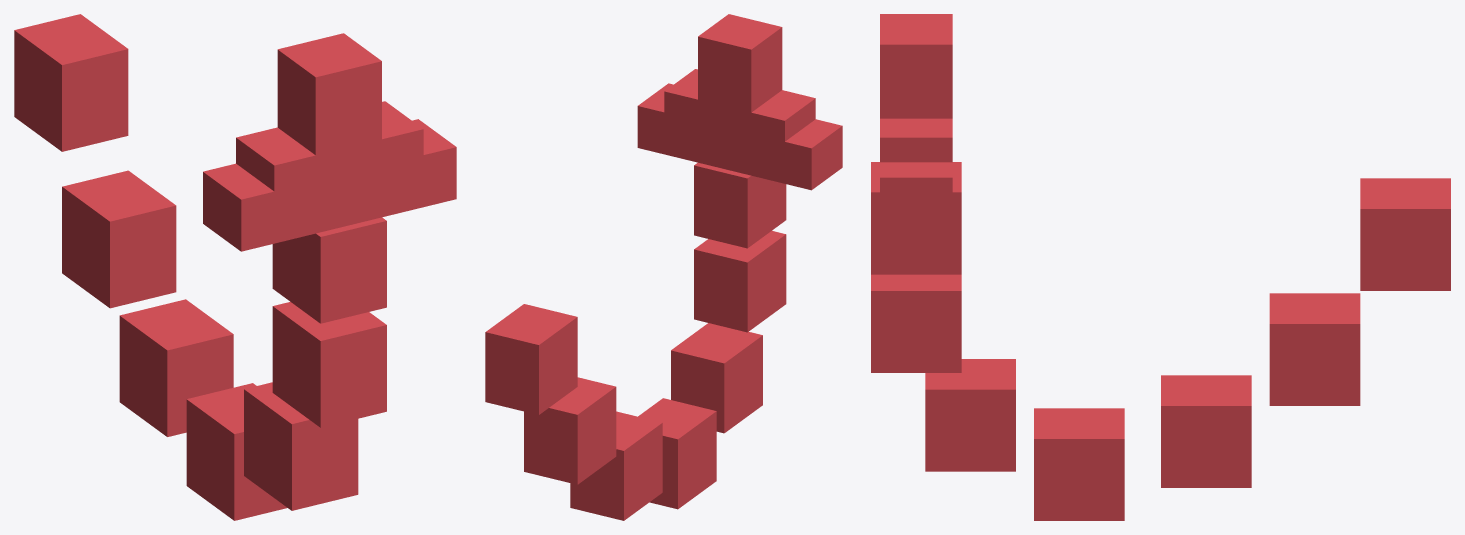
The model's file is cauda_diabo.glb.
The picture shows the model from 3 angles, left to right: view 1: azimuth 30°, elevation 25°; view 2: azimuth 150°, elevation 25°; view 3: azimuth 270°, elevation 25°; orthographic projection. The views are drawn at different scales.
Parts seen in each view (by area): view 1: cauda_diabo; view 2: cauda_diabo; view 3: cauda_diabo.
Part boxes in pixels (x1,y1,x2,y2): cauda_diabo: (14, 14, 456, 520); cauda_diabo: (485, 14, 842, 520); cauda_diabo: (871, 14, 1450, 520).
Bounding box in the file's own units: 0.13 × 0.29 × 0.32.
